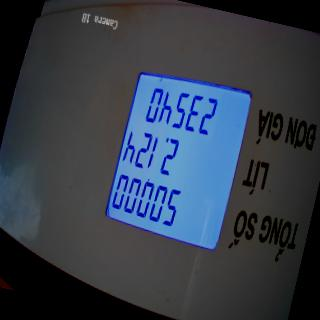screen: (98, 64, 256, 260)
